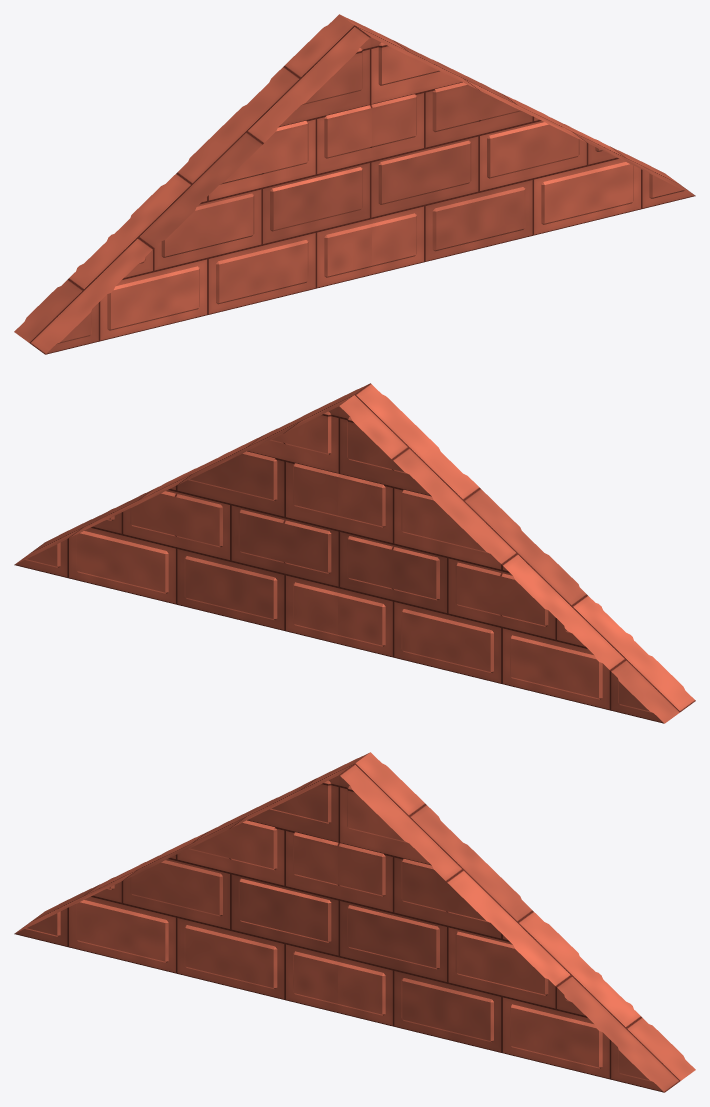
File: Kit_Brick_Gable.fbx
3 views of the same model, one above another, from view 1: azimuth 30°, elevation 25°; view 2: azimuth 150°, elevation 25°; view 3: azimuth 330°, elevation 25° (orthographic).
Visible parts, largest first — view 1: Kit_Brick_Gable_LOD0; view 2: Kit_Brick_Gable_LOD0; view 3: Kit_Brick_Gable_LOD0.
Part boxes in pixels (x1=…): Kit_Brick_Gable_LOD0: x1=14, y1=14, x2=695, y2=354; Kit_Brick_Gable_LOD0: x1=14, y1=383, x2=695, y2=723; Kit_Brick_Gable_LOD0: x1=14, y1=752, x2=695, y2=1092.
Size of what is drawn, in the model's own units: 3 by 1.05 by 0.27.
